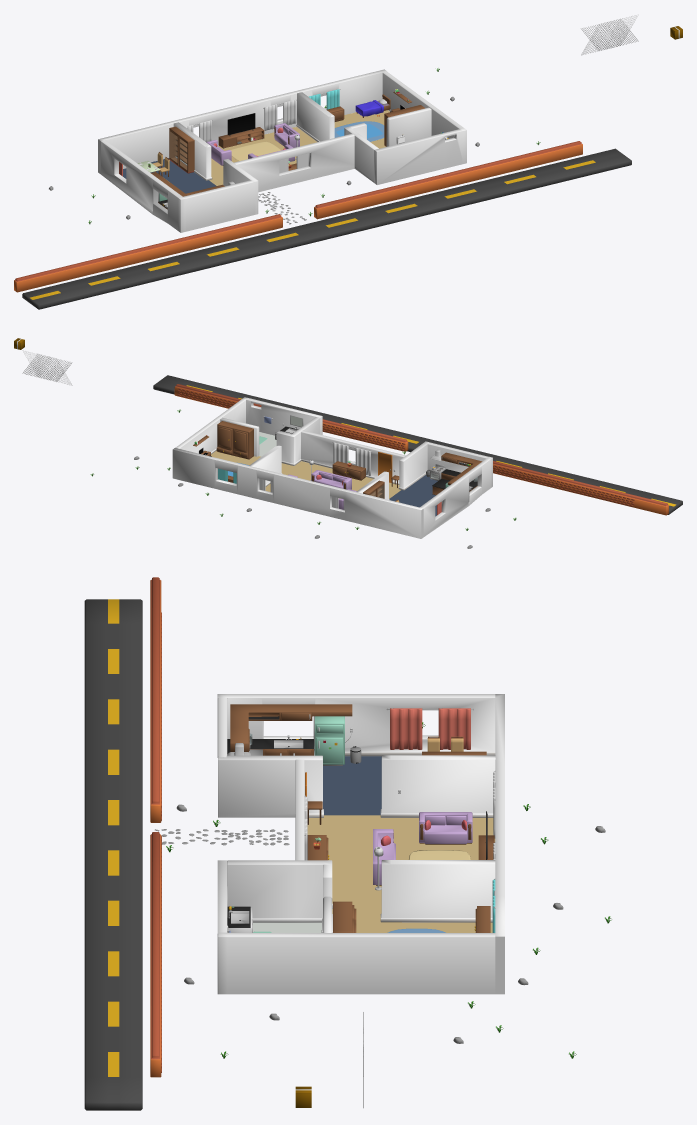
File: House.fbx
3 views of the same model, one above another, from view 1: azimuth 30°, elevation 25°; view 2: azimuth 150°, elevation 25°; view 3: azimuth 270°, elevation 25° (orthographic). The views are drawn at different scales.
Parts seen in each view (by area): view 1: Asphalt, WallBrick, Wall10, Wall8.001, Wall8.002, Wall7, Wall8, Ground, Wall9, Wall6.001, Wall4, Protective Screen (+11 smaller); view 2: Wall10, WallBrick, Asphalt, Ground, Wall7, Wall8.001, Wall8.002, Wall9, Closet, Wall5, Protective Screen, Wall8 (+7 smaller); view 3: Asphalt, Wall9, Ground, Wall7, Wall6.001, Wall6, Wall5, WallBrick, Wall3, Wall10, Curtain, Sofas (+5 smaller).
Boxes of the visible parts, left/top/right/bottom form: Asphalt: left=22, top=148, right=631, bottom=309; WallBrick: left=14, top=141, right=582, bottom=292; Wall10: left=98, top=69, right=386, bottom=174; Wall8.001: left=234, top=133, right=354, bottom=192; Wall8.002: left=374, top=129, right=463, bottom=184; Wall7: left=101, top=140, right=185, bottom=232; Wall8: left=183, top=180, right=255, bottom=231; Ground: left=123, top=110, right=389, bottom=193; Wall9: left=382, top=71, right=466, bottom=164; Wall6.001: left=296, top=92, right=334, bottom=141; Wall4: left=386, top=107, right=431, bottom=146; Protective Screen: left=581, top=14, right=638, bottom=55; Wall10: left=172, top=448, right=423, bottom=538; WallBrick: left=174, top=384, right=668, bottom=515; Asphalt: left=153, top=375, right=682, bottom=514; Ground: left=211, top=432, right=437, bottom=516; Wall7: left=420, top=456, right=492, bottom=536; Wall8.001: left=301, top=430, right=405, bottom=484; Wall8.002: left=246, top=398, right=322, bottom=435; Wall9: left=175, top=397, right=247, bottom=454; Closet: left=216, top=421, right=253, bottom=459; Wall5: left=398, top=441, right=428, bottom=490; Protective Screen: left=22, top=350, right=72, bottom=385; Wall8: left=427, top=442, right=488, bottom=472; Asphalt: left=84, top=599, right=142, bottom=1110; Wall9: left=217, top=932, right=495, bottom=994; Ground: left=253, top=756, right=495, bottom=932; Wall7: left=217, top=694, right=495, bottom=756; Wall6.001: left=380, top=860, right=495, bottom=922; Wall6: left=380, top=755, right=495, bottom=817; Wall5: left=218, top=755, right=323, bottom=817; WallBrick: left=150, top=577, right=161, bottom=1077; Wall3: left=227, top=860, right=332, bottom=922; Wall10: left=495, top=694, right=504, bottom=994; Curtain: left=386, top=708, right=473, bottom=749; Sofas: left=373, top=812, right=472, bottom=885.
Bounding box in the file's own units: 7713 × 743 × 2866.
